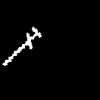double_crochet: (3, 27, 40, 64)
